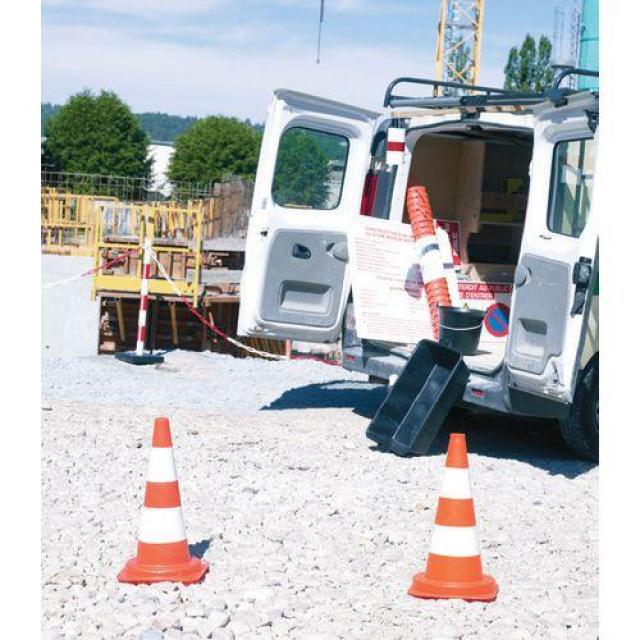cone: (394, 432, 499, 592), (120, 413, 215, 588)
